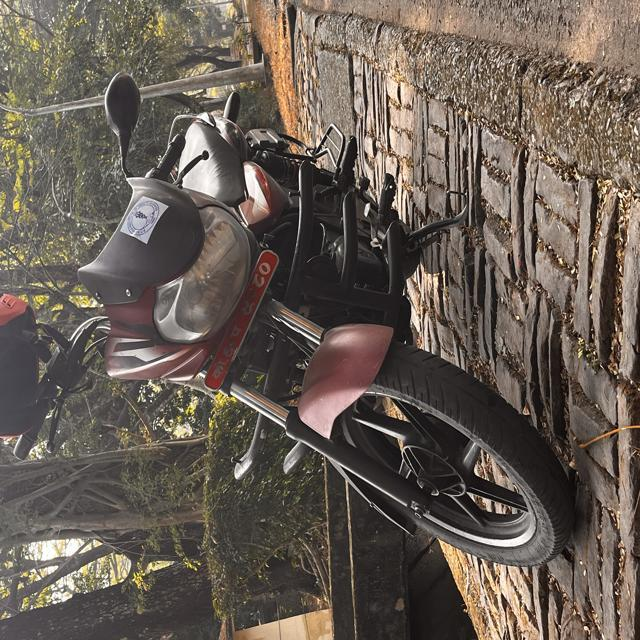license_plate: (177, 200, 303, 439)
